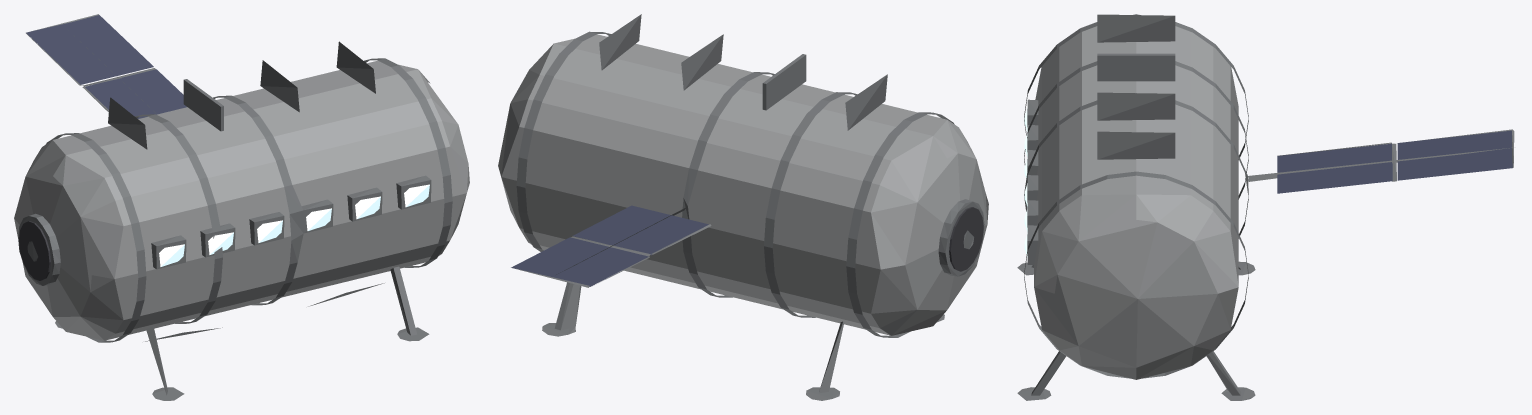
The model's file is base-module-lod1.glb.
3 views of the same model, side by side, from view 1: azimuth 30°, elevation 25°; view 2: azimuth 150°, elevation 25°; view 3: azimuth 270°, elevation 25° (orthographic). The views are drawn at different scales.
Size of the model in its own units: 10.07 by 5.83 by 10.11.
